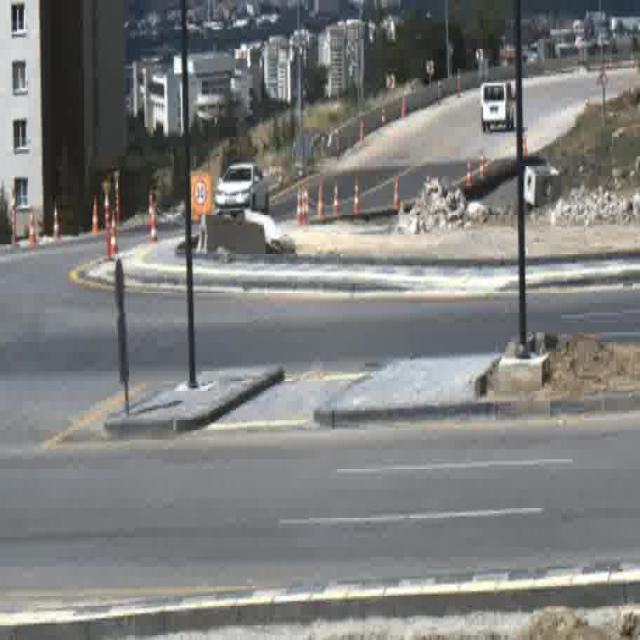Car: (212, 162, 272, 217), (482, 81, 515, 133)
